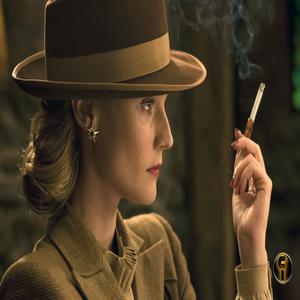cigarette: (230, 81, 267, 162)
